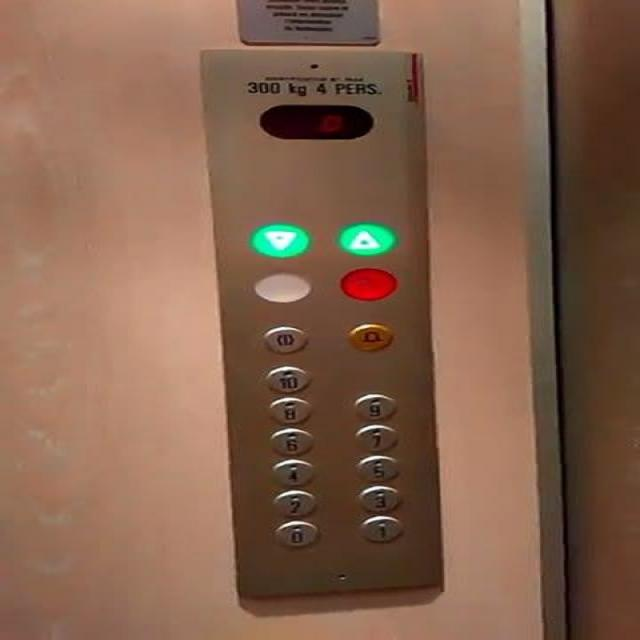0: (268, 519, 323, 549)
1: (349, 513, 407, 543)
10: (258, 362, 314, 392)
2: (267, 488, 317, 519)
3: (352, 484, 405, 514)
4: (265, 460, 320, 488)
5: (350, 454, 406, 485)
6: (262, 428, 314, 457)
7: (352, 424, 400, 452)
8: (261, 396, 315, 425)
9: (349, 392, 399, 421)
alarm: (337, 321, 400, 354)
blur: (336, 267, 396, 302)
down: (248, 223, 309, 259)
empty: (252, 272, 312, 303)
led: (256, 101, 377, 141)
open: (256, 324, 312, 354)
up: (335, 222, 396, 256)
